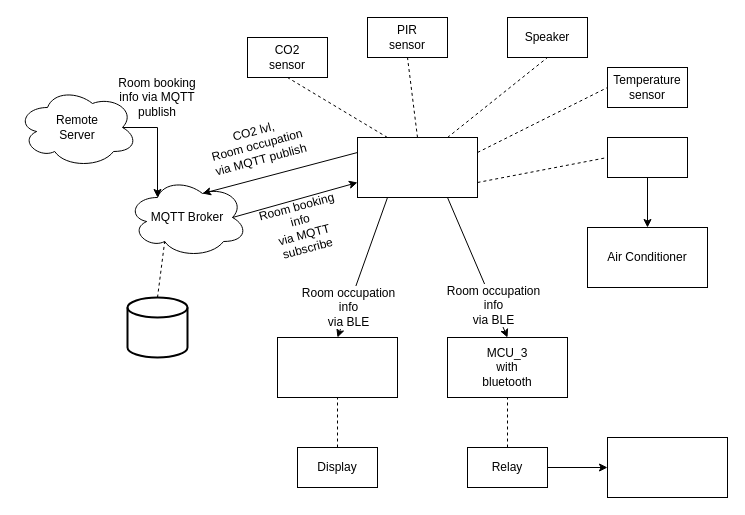
The diagram is 745 pixels wide and 515 high, and some of its shapes have lost their labels. Each missing label, with the centre of its shape:
"conditioner controller" belongs at (x=647, y=157).
"Light" belongs at (x=667, y=467).
"MCU_1 with bluetooth and Wi-FI" belongs at (x=417, y=167).
"MCU_2 with bluetooth" belongs at (x=337, y=367).
"MQTT DB" belongs at (x=157, y=327).
